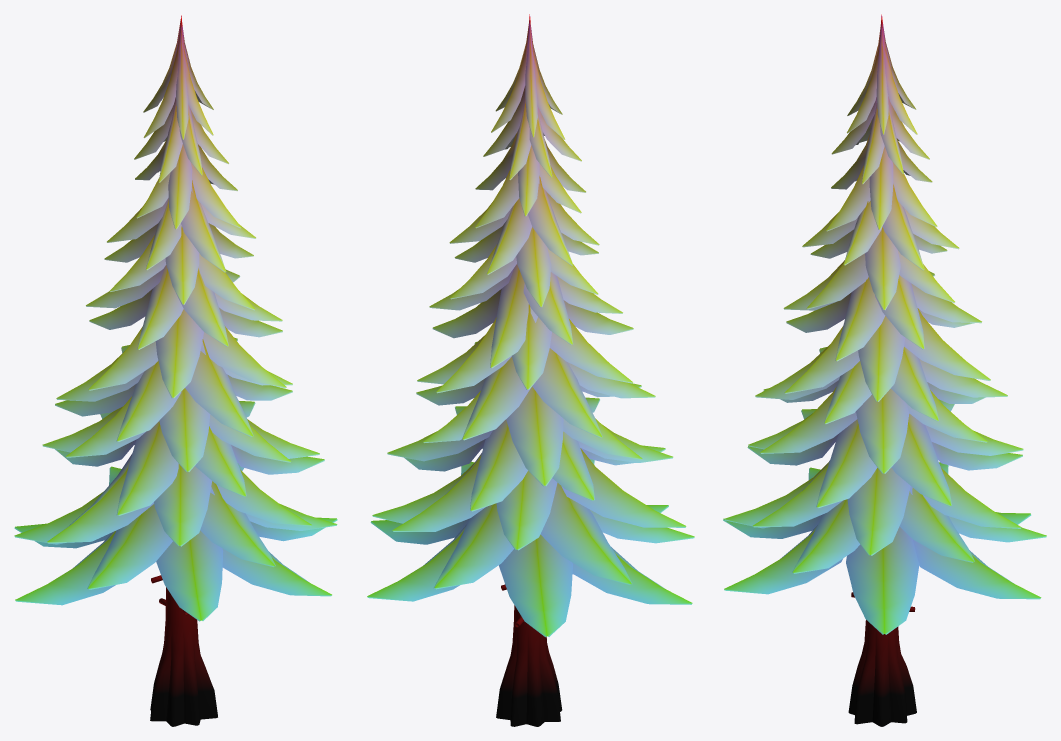
The model's file is Tree_C1_8m_1a.fbx.
3 renders of one model, left to right at view 1: azimuth 30°, elevation 25°; view 2: azimuth 150°, elevation 25°; view 3: azimuth 270°, elevation 25°, orthographic.
Parts seen in each view (by area): view 1: Tree_C1_8m_1a_LOD0; view 2: Tree_C1_8m_1a_LOD0; view 3: Tree_C1_8m_1a_LOD0.
Boxes of the visible parts, x1=… form: Tree_C1_8m_1a_LOD0: x1=14, y1=15, x2=337, y2=726; Tree_C1_8m_1a_LOD0: x1=367, y1=14, x2=694, y2=726; Tree_C1_8m_1a_LOD0: x1=723, y1=14, x2=1046, y2=726.
Size of what is drawn, in the model's own units: 4 by 8.32 by 3.5.
